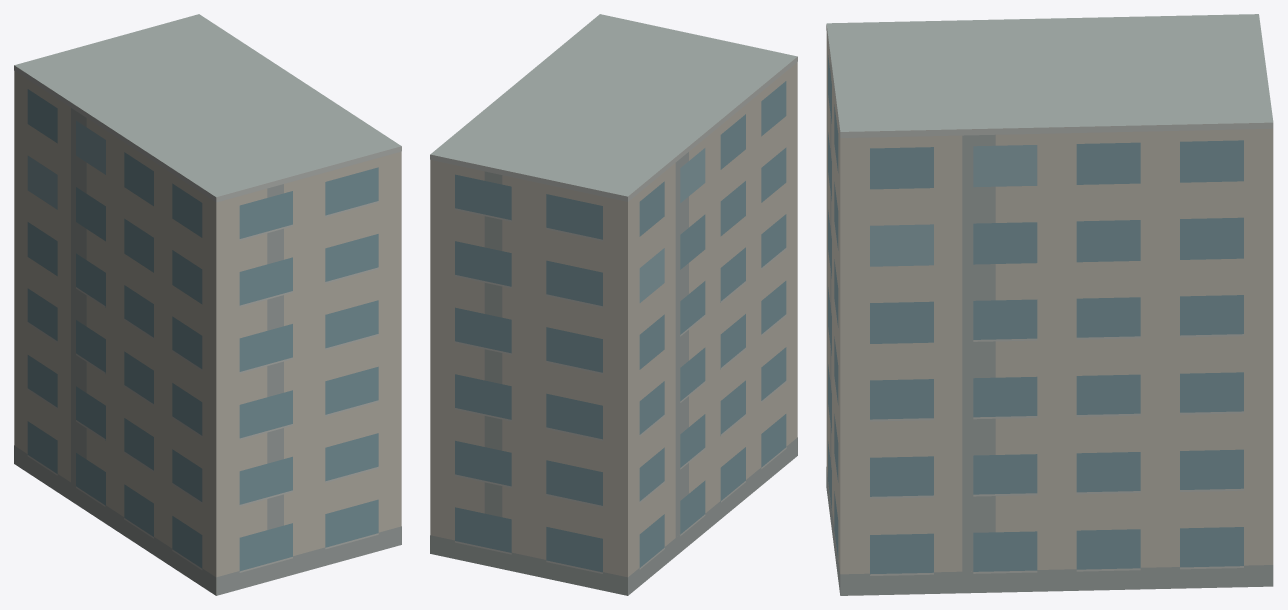
The model's file is survey-upis-32696712.glb.
3 views of the same model, side by side, from view 1: azimuth 30°, elevation 25°; view 2: azimuth 150°, elevation 25°; view 3: azimuth 270°, elevation 25° (orthographic). The views are drawn at different scales.
Visible parts, largest first — view 1: survey-upis-32696712.tmp; view 2: survey-upis-32696712.tmp; view 3: survey-upis-32696712.tmp.
Part boxes in pixels (x1,y1,x2,y2): survey-upis-32696712.tmp: (14,14,401,595); survey-upis-32696712.tmp: (430,14,797,595); survey-upis-32696712.tmp: (826,14,1273,595).
Bounding box in the file's own units: 9.99 × 18.3 × 15.99.
